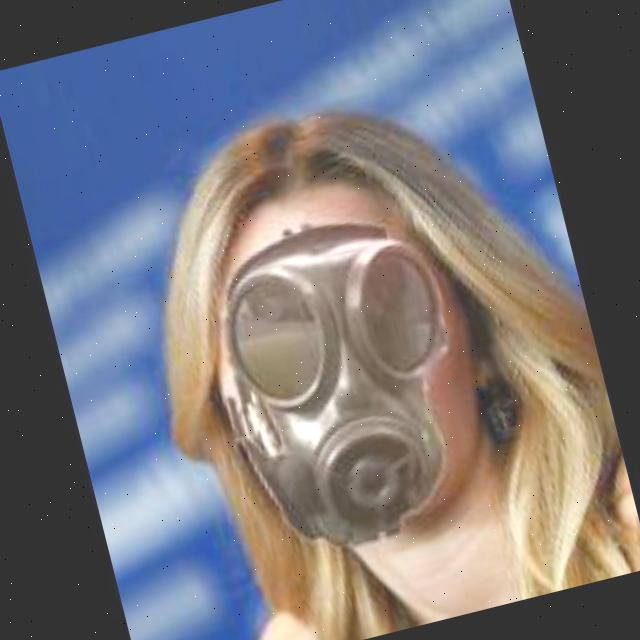suspicion: (128, 55, 558, 584)
